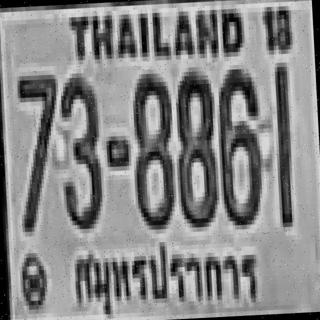N01: (271, 60, 294, 225), (271, 62, 294, 223)
N03: (56, 72, 103, 230)
N06: (215, 64, 264, 226)
N07: (14, 70, 63, 232)
N08: (172, 69, 218, 226), (129, 69, 175, 226)
P57: (66, 231, 267, 320)
